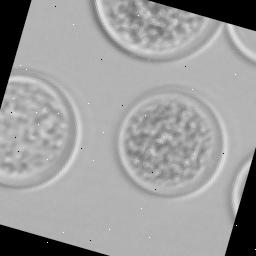picoshell: (115, 86, 230, 203), (0, 71, 84, 193), (91, 0, 225, 65), (229, 152, 254, 225), (225, 23, 256, 69)
